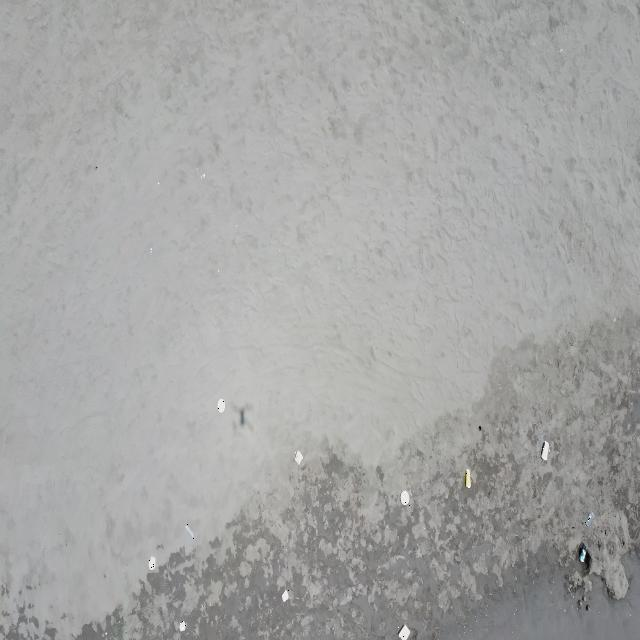take-away-containers: (398, 623, 410, 640), (294, 448, 303, 466), (216, 398, 226, 414), (400, 490, 410, 506), (148, 556, 156, 571), (179, 620, 186, 634), (282, 589, 289, 603)
takeaway-cup: (540, 441, 550, 462), (585, 510, 595, 528), (185, 523, 195, 539), (465, 468, 472, 488), (580, 548, 588, 564)
